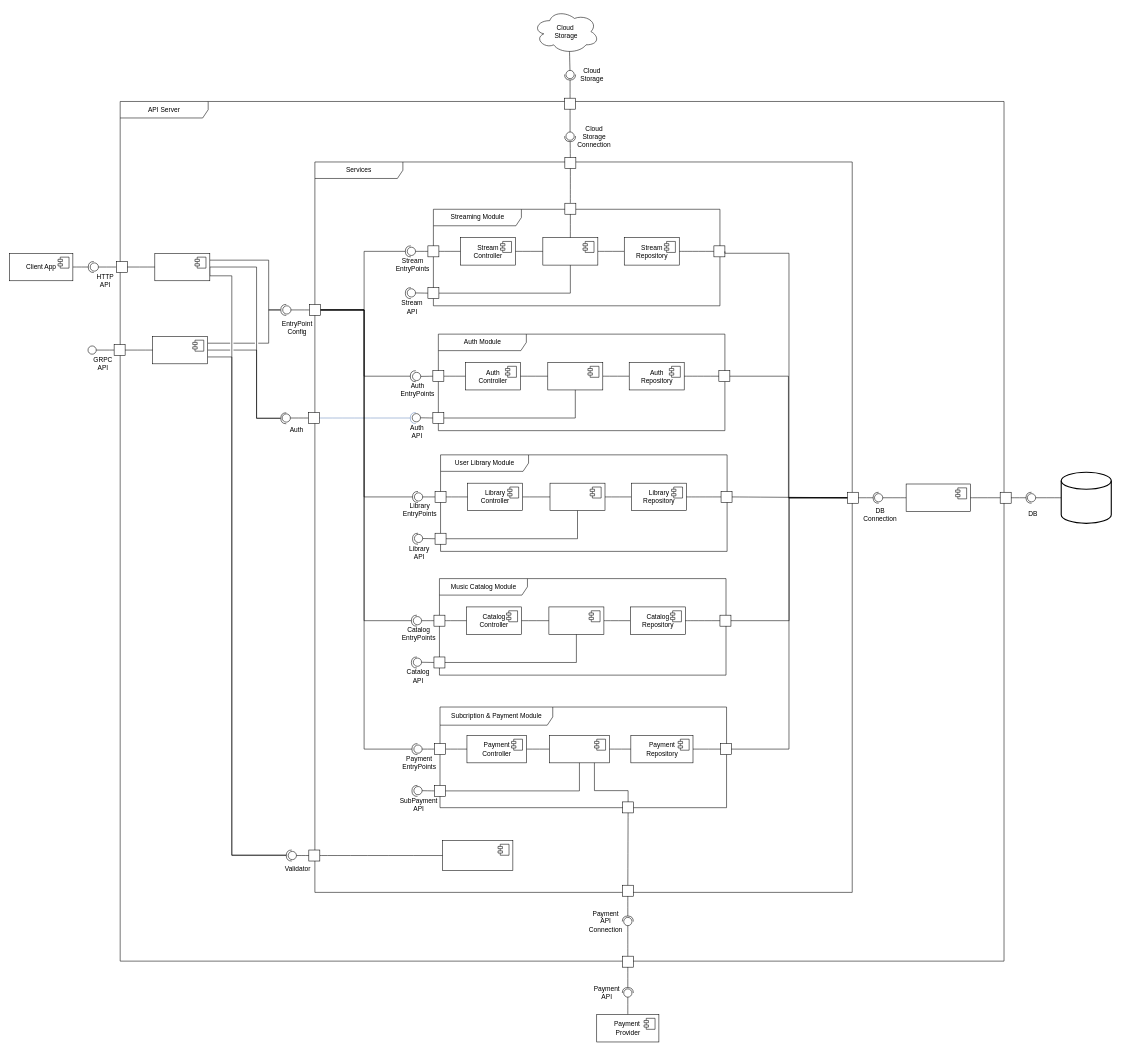
The diagram is 1121 pixels wide and 1052 high, and some of its shapes have lost their labels. The centre of each missing label's shape, as x and y in pixels:
"Auth Service" belongs at pixel 575 376.
"Catalog Service" belongs at pixel 576 620.
"DB Connection Pool" belongs at pixel 938 497.
"GRPC Server" belongs at pixel 180 350.
"HTTP Router" belongs at pixel 182 267.
"JSON Schema Validator" belongs at pixel 477 855.
"Library Service" belongs at pixel 577 497.
"Payment Service" belongs at pixel 579 749.
"PostgreSQL" belongs at pixel 1086 497.
"Stream Service" belongs at pixel 570 251.
